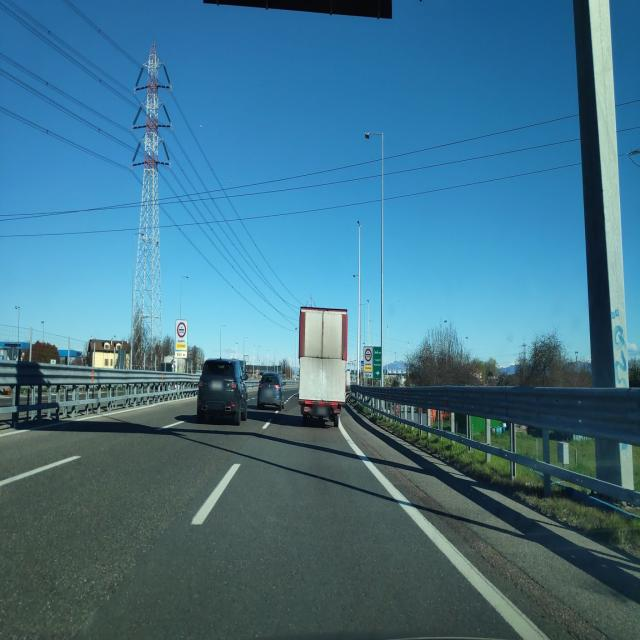car: (197, 356, 248, 425), (256, 371, 284, 411)
